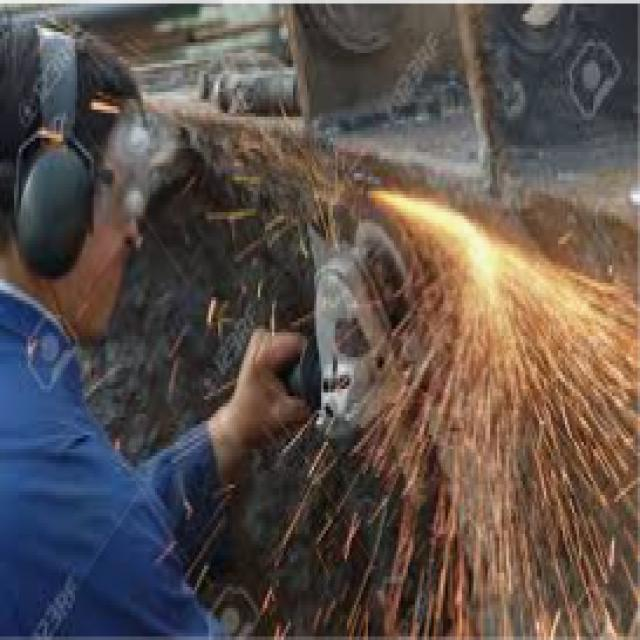glasses: (91, 146, 164, 218)
